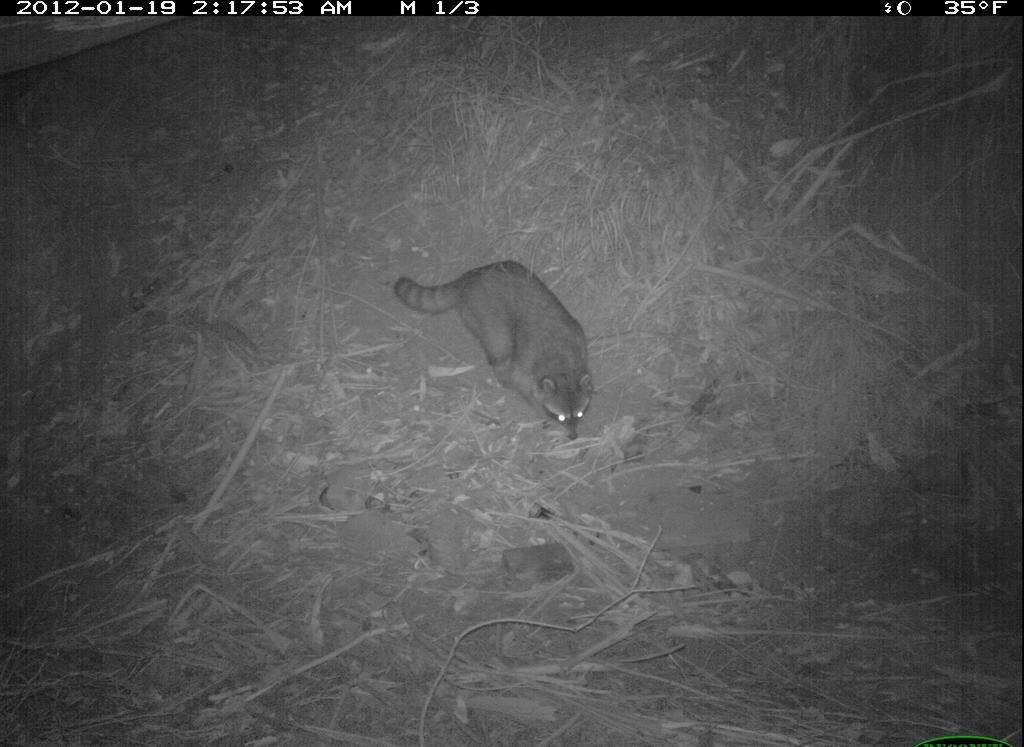raccoon: (390, 246, 612, 446)
